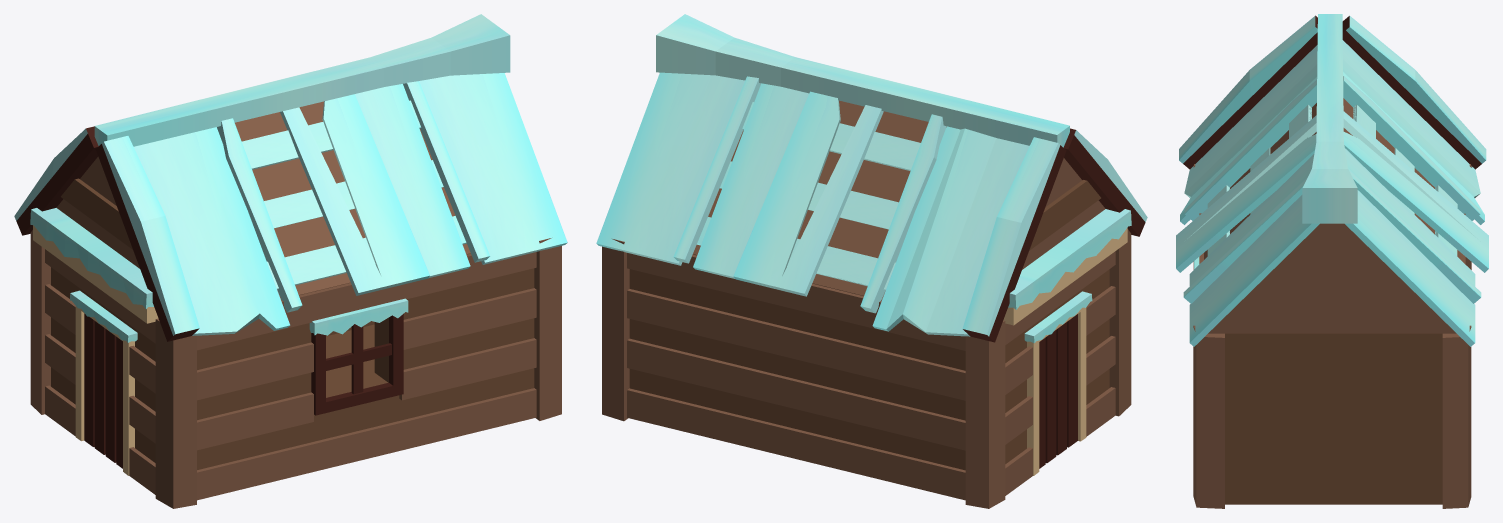
File: hut.fbx
The picture shows the model from 3 angles, left to right: view 1: azimuth 30°, elevation 25°; view 2: azimuth 150°, elevation 25°; view 3: azimuth 270°, elevation 25°; orthographic projection. The views are drawn at different scales.
Parts seen in each view (by area): view 1: hut; view 2: hut; view 3: hut.
Part boxes in pixels (box(x1,y1,x2,y2)): hut: box(14, 14, 567, 508); hut: box(596, 14, 1147, 508); hut: box(1176, 14, 1488, 508).
Bounding box in the file's own units: 270 × 214 × 189.
Materials: 5 (1 with a texture image).
